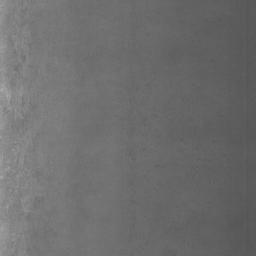Silk spot: (7, 60, 27, 91), (10, 199, 31, 221), (7, 114, 30, 133), (4, 154, 19, 182), (6, 7, 16, 27), (7, 242, 17, 256), (32, 171, 42, 182), (34, 197, 44, 208), (8, 35, 14, 47)
